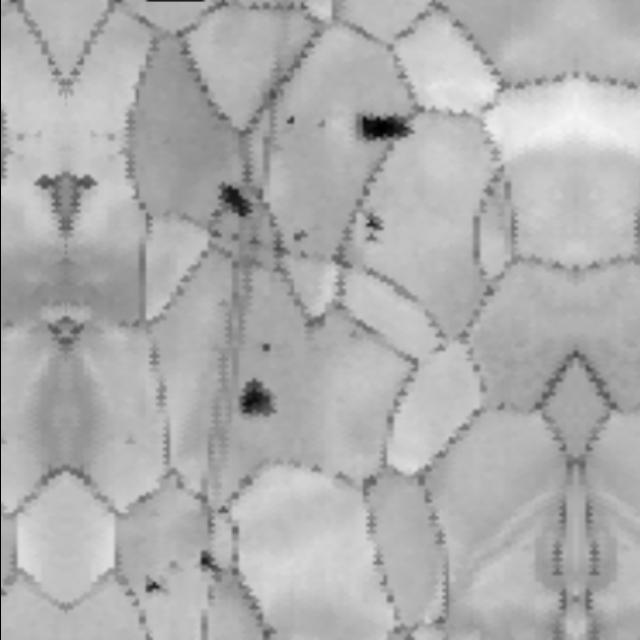good_void: (210, 175, 258, 226), (355, 108, 417, 145), (235, 377, 279, 421), (191, 547, 223, 582), (133, 568, 164, 599), (31, 170, 60, 199), (71, 170, 99, 198), (363, 207, 385, 232), (160, 558, 183, 581), (289, 227, 310, 245), (313, 115, 330, 130), (215, 504, 229, 517), (298, 250, 310, 262), (364, 232, 377, 243), (105, 132, 117, 143), (14, 132, 26, 143), (284, 115, 296, 125), (261, 343, 272, 352)
